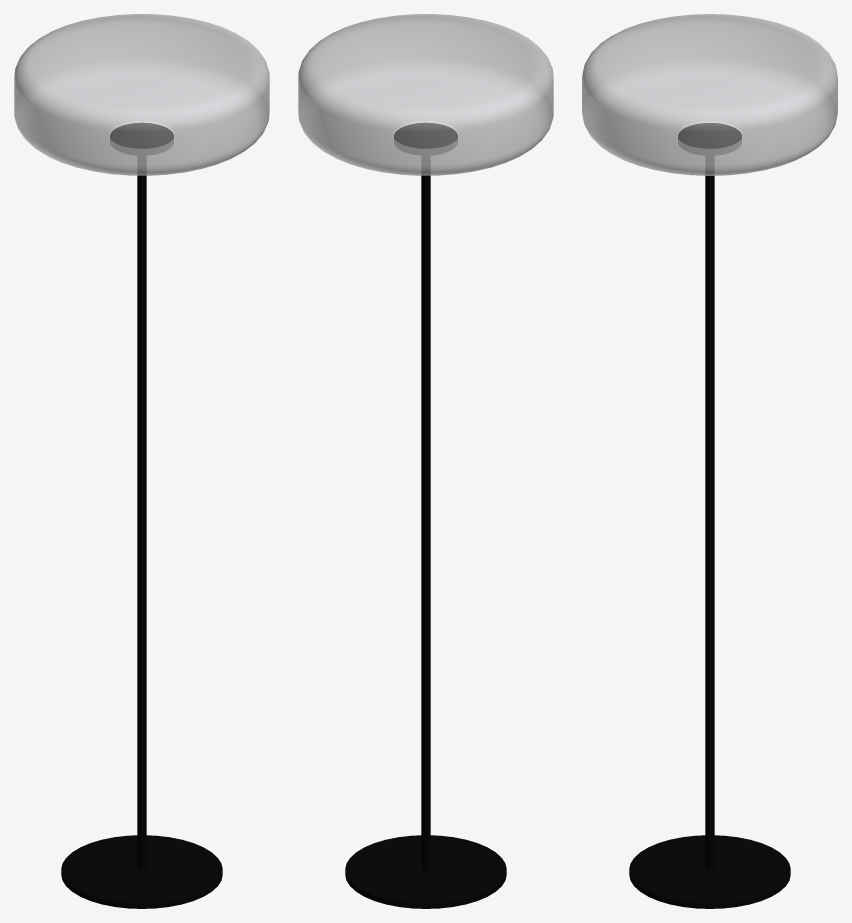
The model's file is lampara3.0.glb.
3 views of the same model, side by side, from view 1: azimuth 30°, elevation 25°; view 2: azimuth 150°, elevation 25°; view 3: azimuth 270°, elevation 25° (orthographic).
Visible parts, largest first — view 1: Lamp_39; view 2: Lamp_39; view 3: Lamp_39.
Boxes of the visible parts, x1,y1,x2,y2 form: Lamp_39: (14,14,269,908); Lamp_39: (298,14,553,908); Lamp_39: (582,14,837,908).
Bounding box in the file's own units: 1.5 × 5.28 × 1.5.
Materials: 2 (1 with a texture image).
